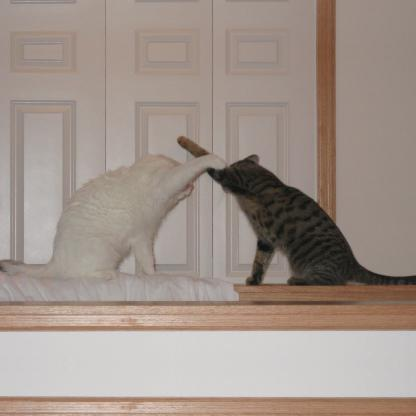Cat: (176, 134, 414, 286), (0, 152, 228, 282)
